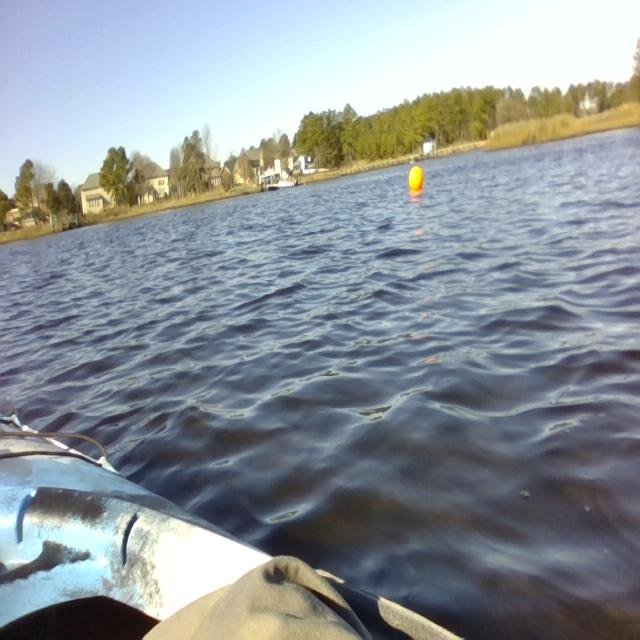Buoy: (406, 162, 427, 200)
